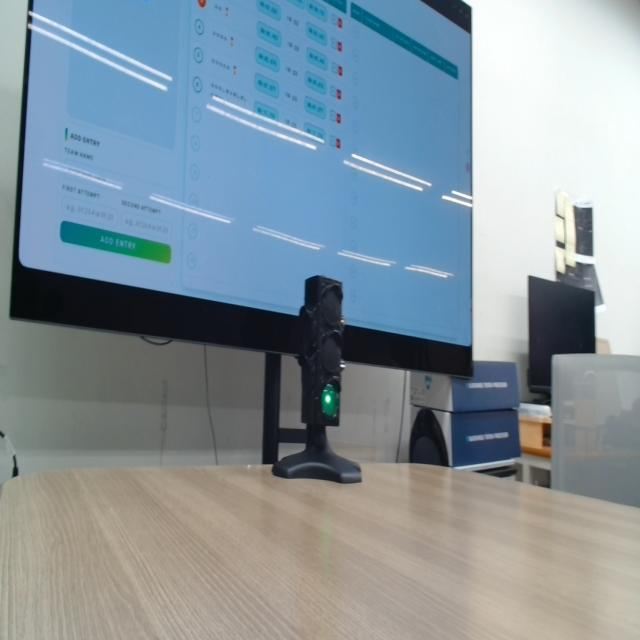green_light: (322, 384, 339, 418)
